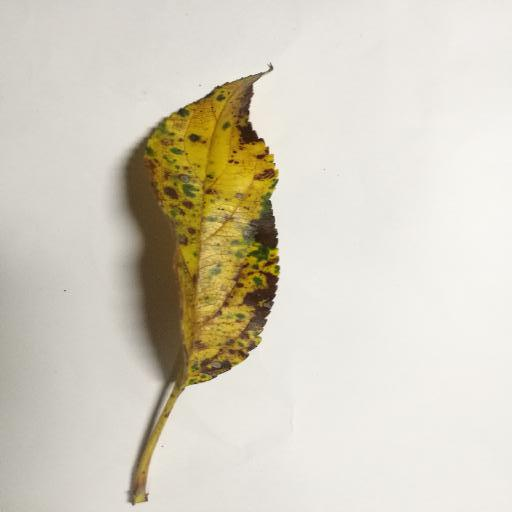Brown_Spot: (167, 138, 254, 343)
